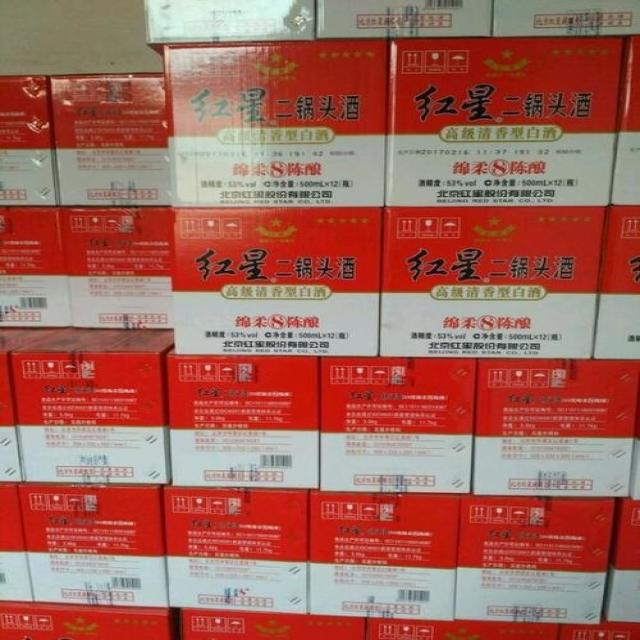box: (386, 37, 628, 207), (166, 39, 390, 208), (380, 205, 608, 358), (173, 208, 385, 355), (473, 361, 639, 498), (166, 353, 320, 490), (320, 360, 477, 494), (452, 497, 616, 624), (308, 492, 462, 621), (14, 484, 167, 608), (51, 71, 172, 206), (58, 207, 171, 328), (0, 327, 73, 483), (143, 0, 316, 46), (0, 75, 59, 205), (317, 1, 495, 41), (594, 206, 639, 360), (1, 602, 172, 639), (177, 608, 366, 639), (607, 37, 639, 206), (495, 1, 639, 37), (603, 501, 639, 623), (366, 619, 563, 639), (1, 483, 33, 602), (560, 625, 638, 639)
